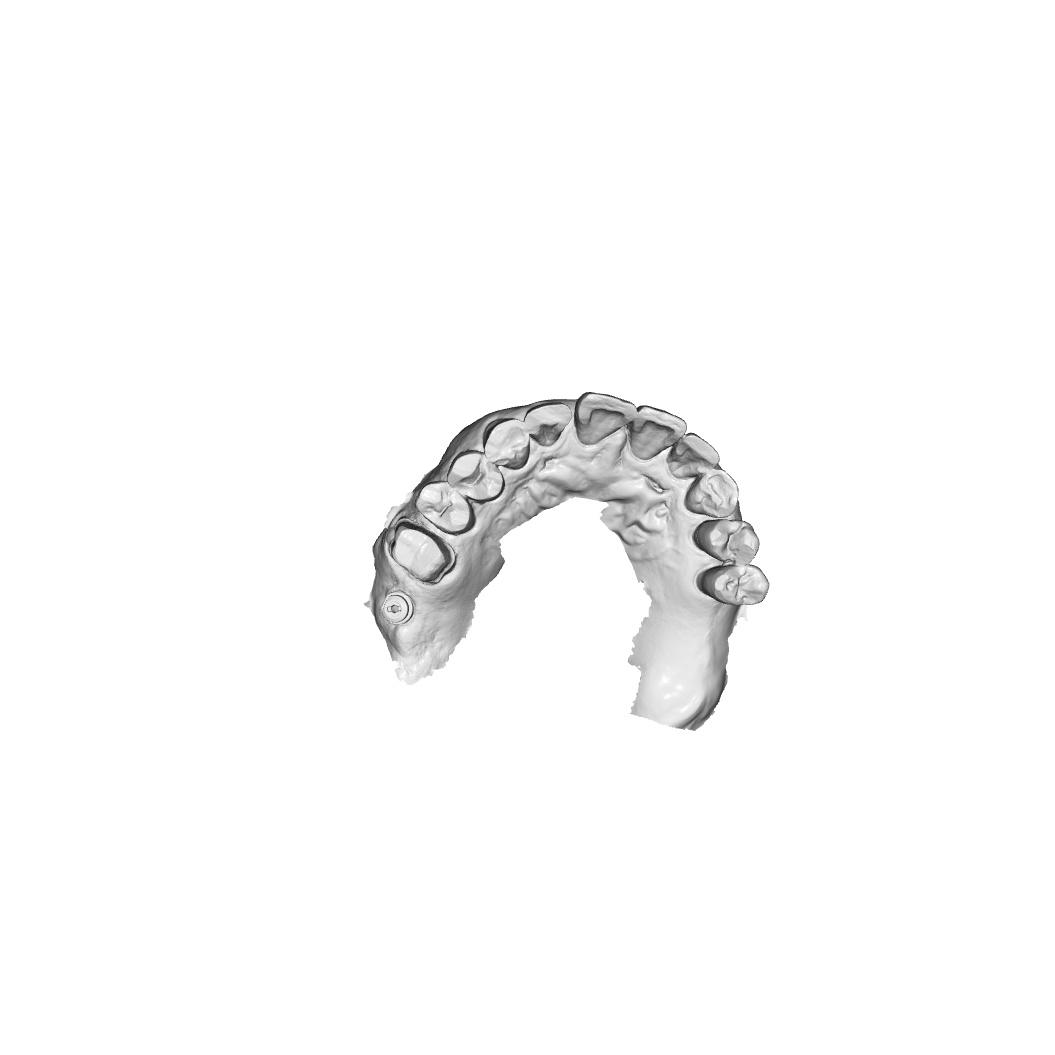canine: (682, 468, 741, 519), (482, 417, 531, 471)
crown: (385, 519, 457, 586)
implant_minus: (380, 590, 416, 626)
incisor: (575, 390, 639, 446), (629, 405, 689, 461), (667, 431, 720, 480), (524, 402, 573, 447)
premolar: (691, 517, 761, 566), (415, 480, 476, 536), (446, 449, 507, 504), (694, 563, 770, 607)
